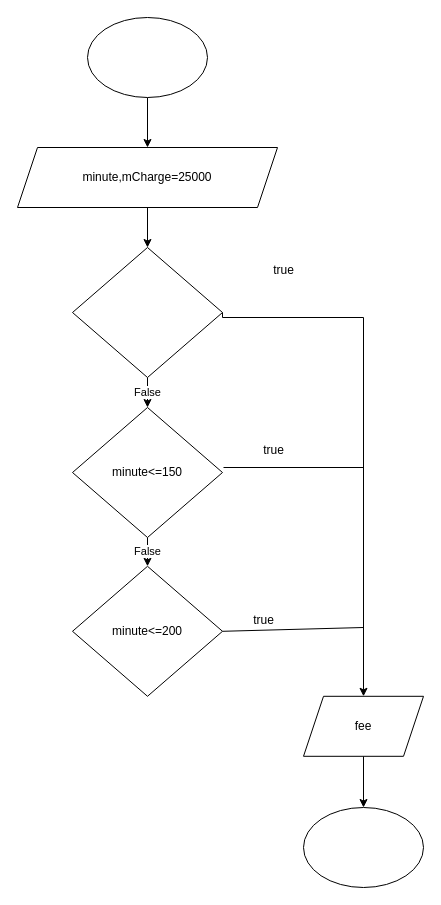
Image size: 441x905. Some labels were removed from this diagram. Here are the shapes that lost their labels. From the top down, the centre of each, then its label:
At point 147,57: "Start".
At point 147,312: "minute<=50".
